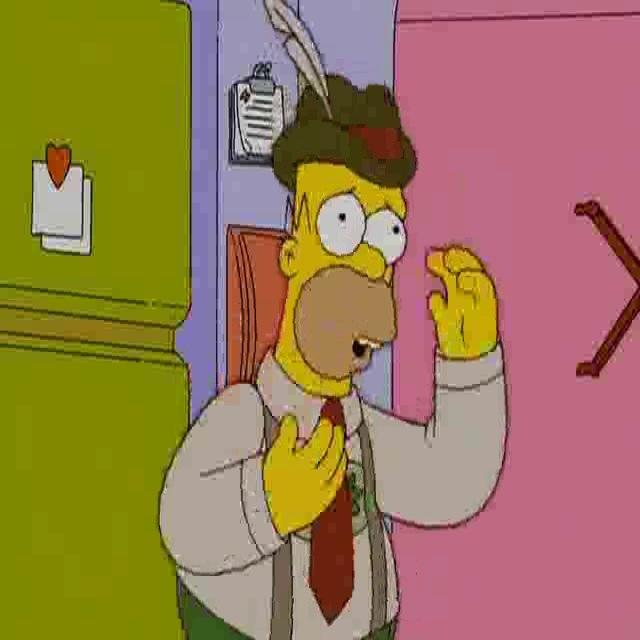Homer Simpson: (276, 74, 410, 403)
